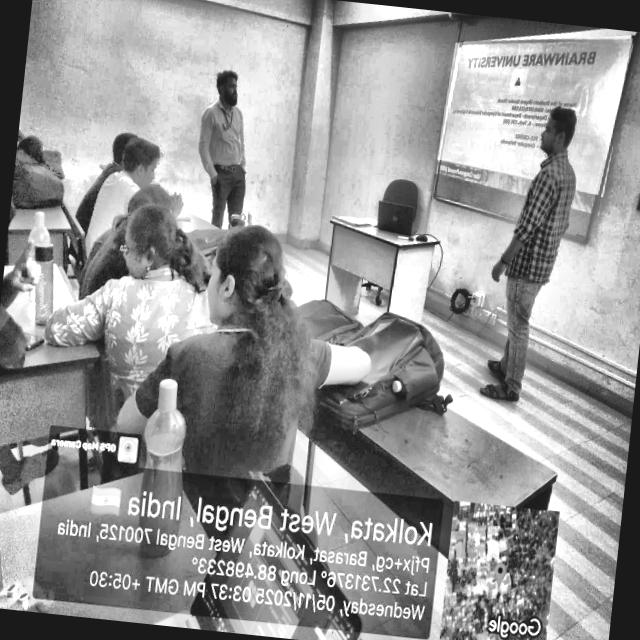Focus: (345, 70, 603, 474), (121, 50, 248, 296), (84, 114, 175, 226)
Not Focus: (145, 169, 325, 412), (78, 163, 204, 350)
